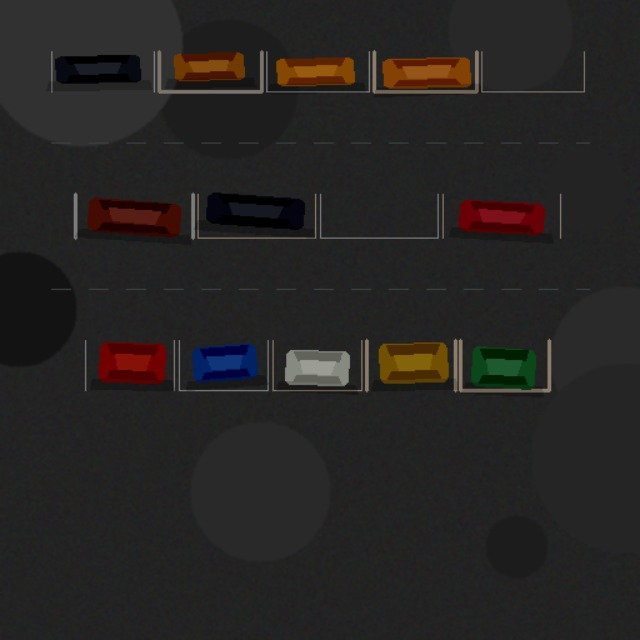space-empty: (320, 194, 438, 237), (481, 51, 584, 91)
space-occupied: (442, 194, 560, 237), (75, 194, 192, 237), (198, 194, 315, 237), (85, 340, 174, 390), (179, 340, 268, 390), (272, 340, 361, 390), (366, 340, 455, 390), (460, 340, 549, 390), (51, 51, 154, 91), (266, 51, 369, 91), (159, 51, 261, 91), (374, 51, 476, 91)
